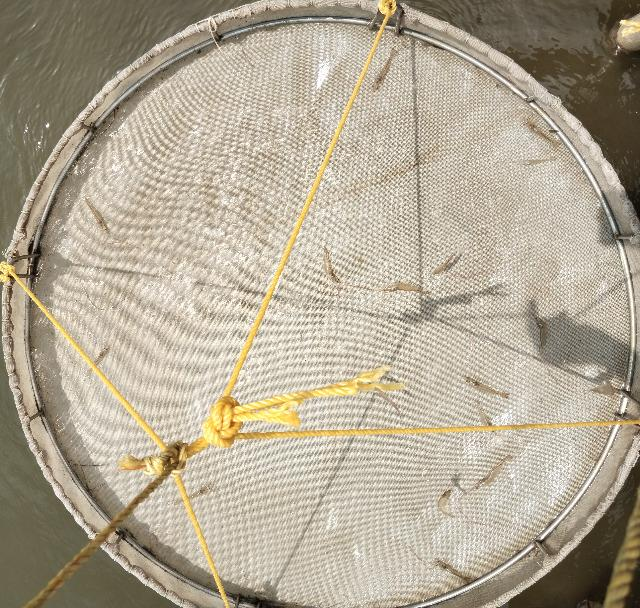shrimp: (470, 455, 513, 493), (371, 49, 399, 92), (520, 117, 556, 146), (462, 377, 509, 399), (81, 196, 107, 235), (432, 560, 472, 585), (173, 485, 214, 507), (473, 399, 495, 432), (323, 245, 341, 285), (83, 349, 107, 375), (380, 283, 431, 295), (437, 488, 455, 519), (533, 315, 546, 356), (432, 253, 455, 275), (514, 157, 556, 165)
